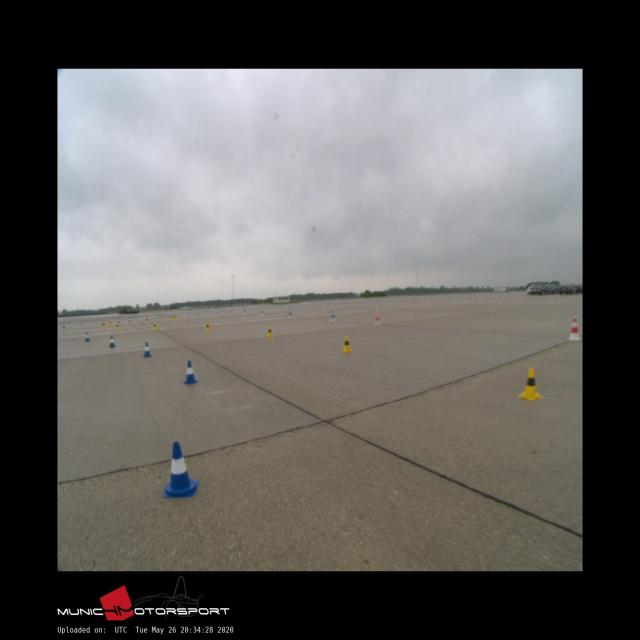blue_cone: (163, 442, 198, 498), (182, 361, 198, 383), (142, 342, 152, 357), (109, 336, 116, 347), (84, 332, 90, 341)
yellow_cone: (518, 368, 542, 400), (341, 336, 352, 352), (266, 326, 273, 337), (205, 322, 211, 331), (152, 322, 158, 329), (116, 322, 120, 330)
